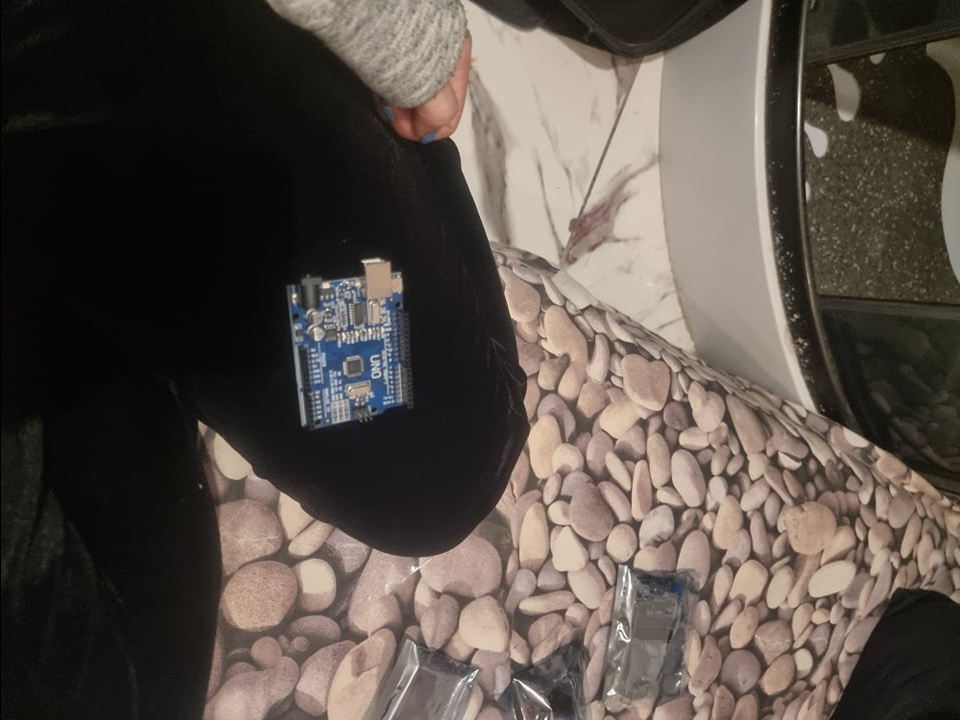UNO R3: (282, 257, 416, 433)
